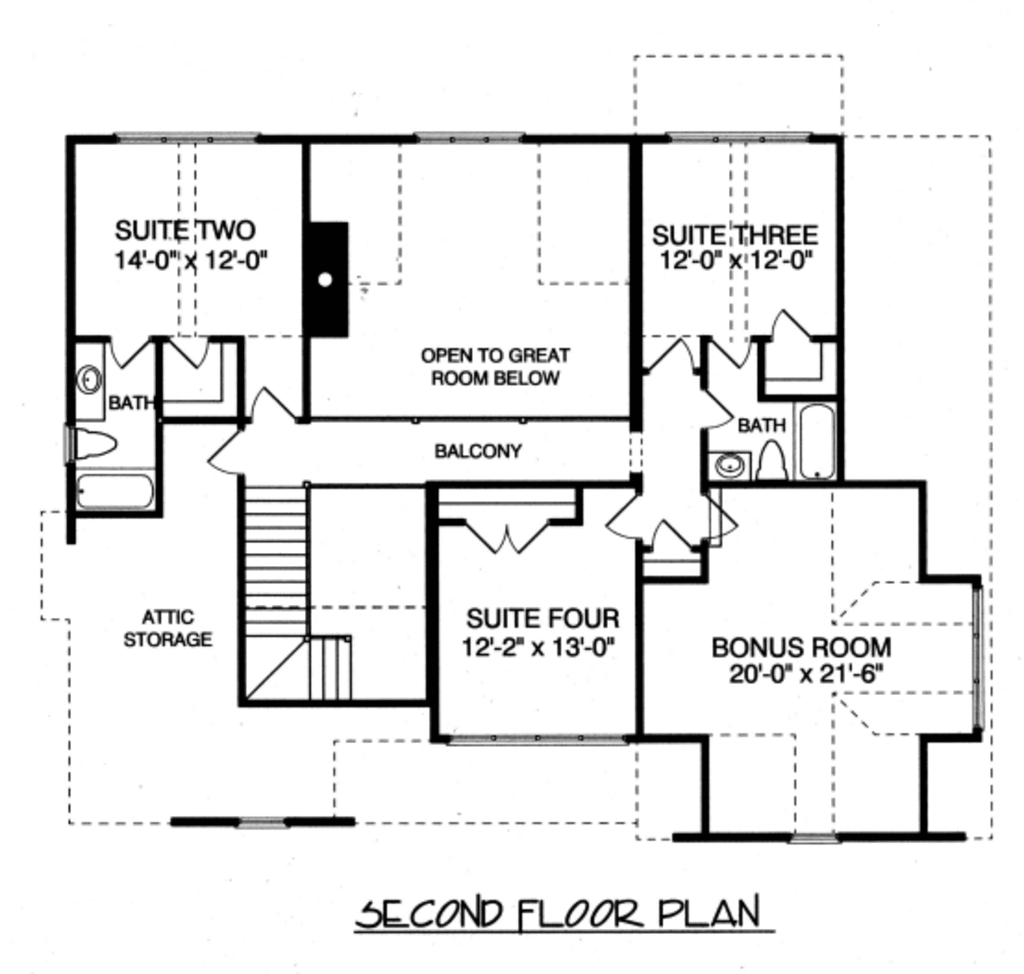door: (456, 516, 550, 558), (207, 416, 253, 478), (238, 373, 295, 420), (97, 329, 157, 373), (639, 514, 700, 557), (642, 332, 701, 373), (757, 307, 812, 348), (612, 490, 647, 551), (163, 331, 219, 369), (700, 495, 741, 541), (706, 331, 753, 369), (697, 382, 733, 429)
large_sink: (65, 422, 126, 464), (747, 435, 792, 484)
small_sink: (79, 338, 103, 413), (701, 446, 748, 484)
stairs: (235, 478, 380, 707)
tub: (795, 391, 838, 485), (77, 470, 153, 511)
window: (110, 122, 266, 148), (451, 729, 636, 748), (409, 122, 524, 148), (668, 125, 813, 143), (789, 823, 841, 852), (236, 807, 288, 834)
